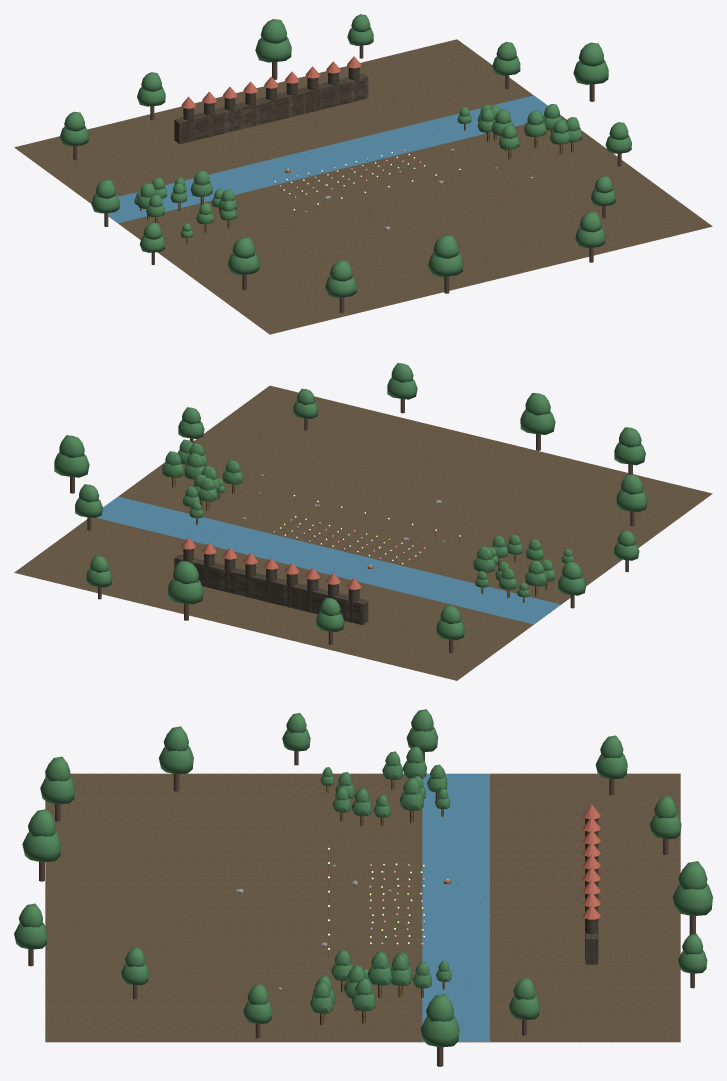
Rendered from adi-06-births.glb.
3 views of the same model, one above another, from view 1: azimuth 30°, elevation 25°; view 2: azimuth 150°, elevation 25°; view 3: azimuth 270°, elevation 25° (orthographic). The views are drawn at different scales.
Visible parts, largest first — view 1: GEO-ground, GEO-river, GEO-pwall, GEO-tree-canopy.054, GEO-tree-canopy.048, GEO-tree-canopy.068, GEO-tree-canopy.064, GEO-tree-canopy.066, GEO-tree-canopy.055; view 2: GEO-ground, GEO-river, GEO-pwall, GEO-tree-canopy.054, GEO-tree-canopy.048, GEO-tree-canopy.068, GEO-tree-canopy.064, GEO-tree-canopy.066, GEO-tree-canopy.070; view 3: GEO-ground, GEO-river, GEO-tree-canopy.054, GEO-tree-canopy.048, GEO-tree-canopy.068, GEO-tree-canopy.066, GEO-tree-canopy.064, GEO-tree-canopy.070, GEO-tree-canopy.055, GEO-tree-canopy.058, GEO-tree-canopy.056, GEO-tree-canopy.049 (+3 smaller).
Part boxes in pixels (x1=…): GEO-ground: x1=14, y1=39, x2=712, y2=334; GEO-river: x1=108, y1=95, x2=560, y2=223; GEO-pwall: x1=174, y1=73, x2=368, y2=143; GEO-tree-canopy.054: x1=255, y1=36, x2=291, y2=62; GEO-tree-canopy.048: x1=573, y1=59, x2=608, y2=84; GEO-tree-canopy.068: x1=428, y1=252, x2=463, y2=276; GEO-tree-canopy.064: x1=227, y1=252, x2=259, y2=274; GEO-tree-canopy.066: x1=325, y1=275, x2=356, y2=297; GEO-tree-canopy.055: x1=260, y1=19, x2=286, y2=43; GEO-ground: x1=14, y1=385, x2=712, y2=680; GEO-river: x1=96, y1=496, x2=560, y2=624; GEO-pwall: x1=174, y1=554, x2=368, y2=624; GEO-tree-canopy.054: x1=167, y1=578, x2=203, y2=604; GEO-tree-canopy.048: x1=54, y1=452, x2=89, y2=477; GEO-tree-canopy.068: x1=520, y1=409, x2=555, y2=434; GEO-tree-canopy.064: x1=616, y1=489, x2=647, y2=512; GEO-tree-canopy.066: x1=614, y1=442, x2=645, y2=465; GEO-tree-canopy.070: x1=387, y1=378, x2=417, y2=399; GEO-ground: x1=45, y1=773, x2=680, y2=1042; GEO-river: x1=422, y1=773, x2=489, y2=1041; GEO-tree-canopy.054: x1=672, y1=884, x2=712, y2=916; GEO-tree-canopy.048: x1=420, y1=1015, x2=459, y2=1047; GEO-tree-canopy.068: x1=22, y1=831, x2=61, y2=862; GEO-tree-canopy.066: x1=40, y1=776, x2=75, y2=804; GEO-tree-canopy.064: x1=159, y1=746, x2=193, y2=774; GEO-tree-canopy.070: x1=14, y1=922, x2=47, y2=949; GEO-tree-canopy.055: x1=678, y1=861, x2=707, y2=889; GEO-tree-canopy.058: x1=595, y1=753, x2=627, y2=779; GEO-tree-canopy.056: x1=649, y1=813, x2=681, y2=839; GEO-tree-canopy.049: x1=426, y1=994, x2=453, y2=1021.
Bounding box in the file's own units: 177 × 19.06 × 165.
15 materials, 4 textured.
